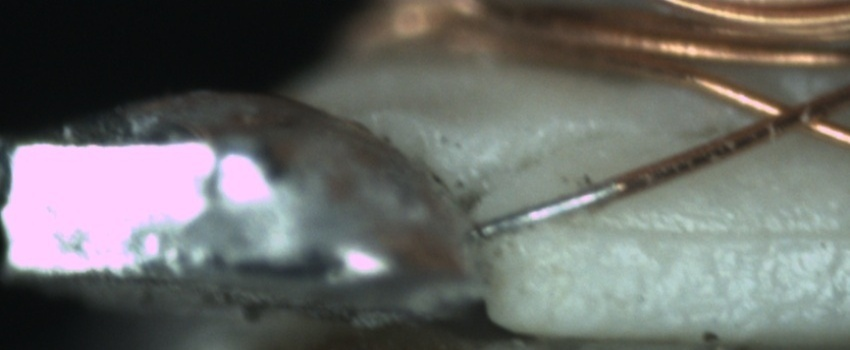CL: (740, 83, 844, 143)
DL: (560, 201, 849, 262)
TS: (475, 182, 619, 241)
